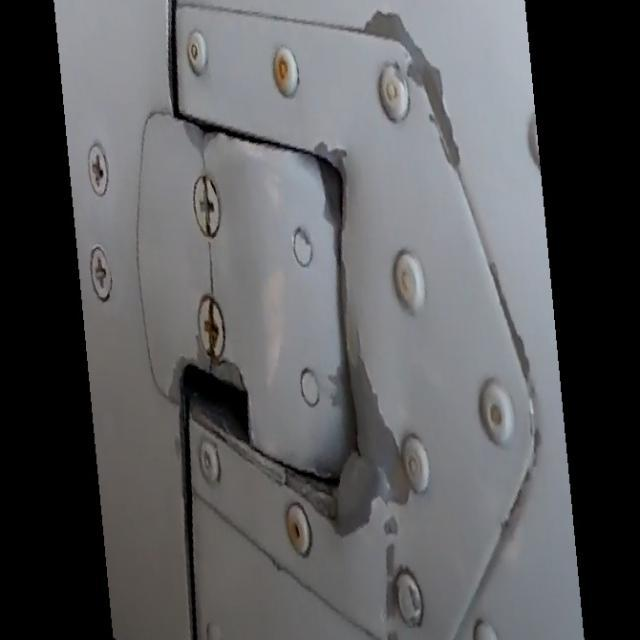crack: (195, 236, 225, 302)
